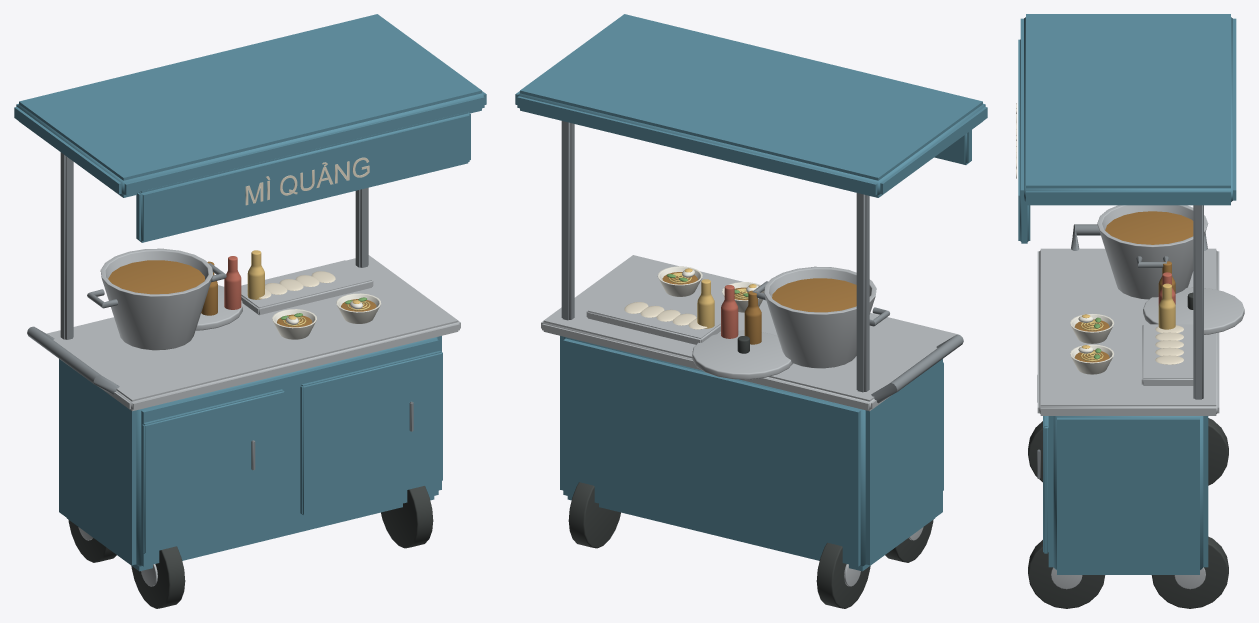
File: MiQuangCounter.glb
3 views of the same model, side by side, from view 1: azimuth 30°, elevation 25°; view 2: azimuth 150°, elevation 25°; view 3: azimuth 270°, elevation 25° (orthographic).
Visible parts, largest first — view 1: ST_MiQuangCounter_ST_blue.001, ST_MiQuangCounter_ST_steel.001, ST_MiQuangCounter_PBK_Indochine_metal.001, ST_MiQuangCounter_ST_black.001, ST_MiQuangCounter_ST_broth.001, ST_MiQuangCounter_ST_cream.001, ST_MiQuangCounter_ST_white.001, ST_Condiment.001, ST_MiQuangCounter_ST_yellow.001; view 2: ST_MiQuangCounter_ST_blue.001, ST_MiQuangCounter_ST_steel.001, ST_MiQuangCounter_PBK_Indochine_metal.001, ST_MiQuangCounter_ST_black.001, ST_MiQuangCounter_ST_broth.001, ST_MiQuangCounter_ST_white.001, ST_MiQuangCounter_ST_cream.001, ST_Condiment.001, ST_MiQuangCounter_ST_yellow.001; view 3: ST_MiQuangCounter_ST_blue.001, ST_MiQuangCounter_ST_steel.001, ST_MiQuangCounter_ST_black.001, ST_MiQuangCounter_ST_broth.001, ST_MiQuangCounter_PBK_Indochine_metal.001, ST_MiQuangCounter_ST_white.001, ST_MiQuangCounter_ST_cream.001, ST_MiQuangCounter_ST_yellow.001.
Part boxes in pixels (<box>): ST_MiQuangCounter_ST_blue.001: <box>14,14,486,571</box>; ST_MiQuangCounter_ST_steel.001: <box>47,248,460,586</box>; ST_MiQuangCounter_PBK_Indochine_metal.001: <box>27,152,413,470</box>; ST_MiQuangCounter_ST_black.001: <box>68,486,433,608</box>; ST_MiQuangCounter_ST_broth.001: <box>108,260,376,327</box>; ST_MiQuangCounter_ST_cream.001: <box>245,157,369,298</box>; ST_MiQuangCounter_ST_white.001: <box>272,293,381,339</box>; ST_Condiment.001: <box>224,256,241,309</box>; ST_MiQuangCounter_ST_yellow.001: <box>247,250,360,319</box>; ST_MiQuangCounter_ST_blue.001: <box>515,14,987,571</box>; ST_MiQuangCounter_ST_steel.001: <box>541,255,958,586</box>; ST_MiQuangCounter_PBK_Indochine_metal.001: <box>561,121,963,403</box>; ST_MiQuangCounter_ST_black.001: <box>568,336,933,608</box>; ST_MiQuangCounter_ST_broth.001: <box>662,272,856,344</box>; ST_MiQuangCounter_ST_white.001: <box>657,266,764,312</box>; ST_MiQuangCounter_ST_cream.001: <box>624,302,707,329</box>; ST_Condiment.001: <box>721,285,738,338</box>; ST_MiQuangCounter_ST_yellow.001: <box>684,268,756,328</box>; ST_MiQuangCounter_ST_blue.001: <box>1018,14,1236,574</box>; ST_MiQuangCounter_ST_steel.001: <box>1037,205,1244,589</box>; ST_MiQuangCounter_ST_black.001: <box>1028,292,1228,608</box>; ST_MiQuangCounter_ST_broth.001: <box>1074,211,1193,362</box>; ST_MiQuangCounter_PBK_Indochine_metal.001: <box>1037,205,1207,478</box>; ST_MiQuangCounter_ST_white.001: <box>1070,314,1114,374</box>; ST_MiQuangCounter_ST_cream.001: <box>1016,103,1183,364</box>; ST_MiQuangCounter_ST_yellow.001: <box>1082,283,1175,348</box>.
Size of the model in its own units: 1.72 by 2.04 by 0.9435.
